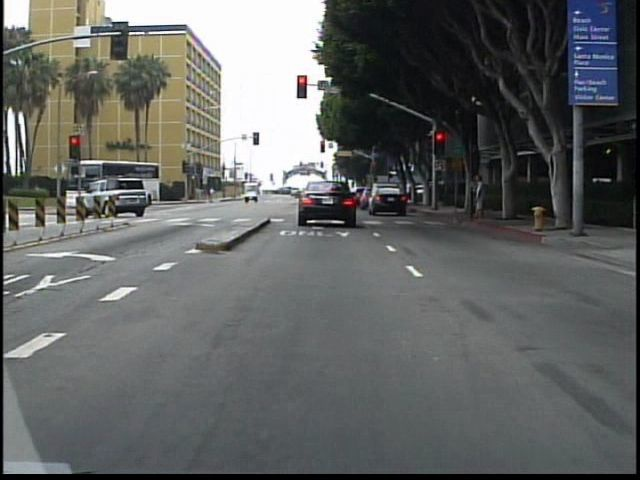person: (469, 169, 489, 221)
